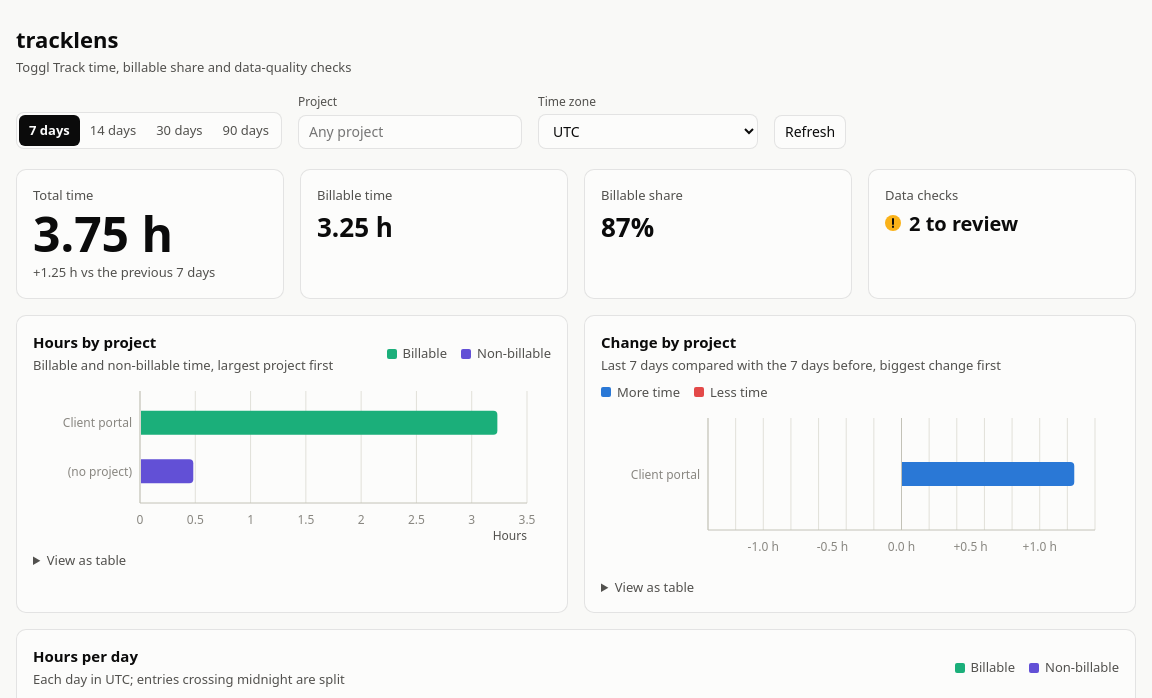
Scenario: App › labels the data on screen, not the filters that failed to load
Check: the text "3.75 h" is shown, box 33,201 -> 173,266
Click the radio button named "Last 30 days" at (179, 130), box 156,121 -> 203,139
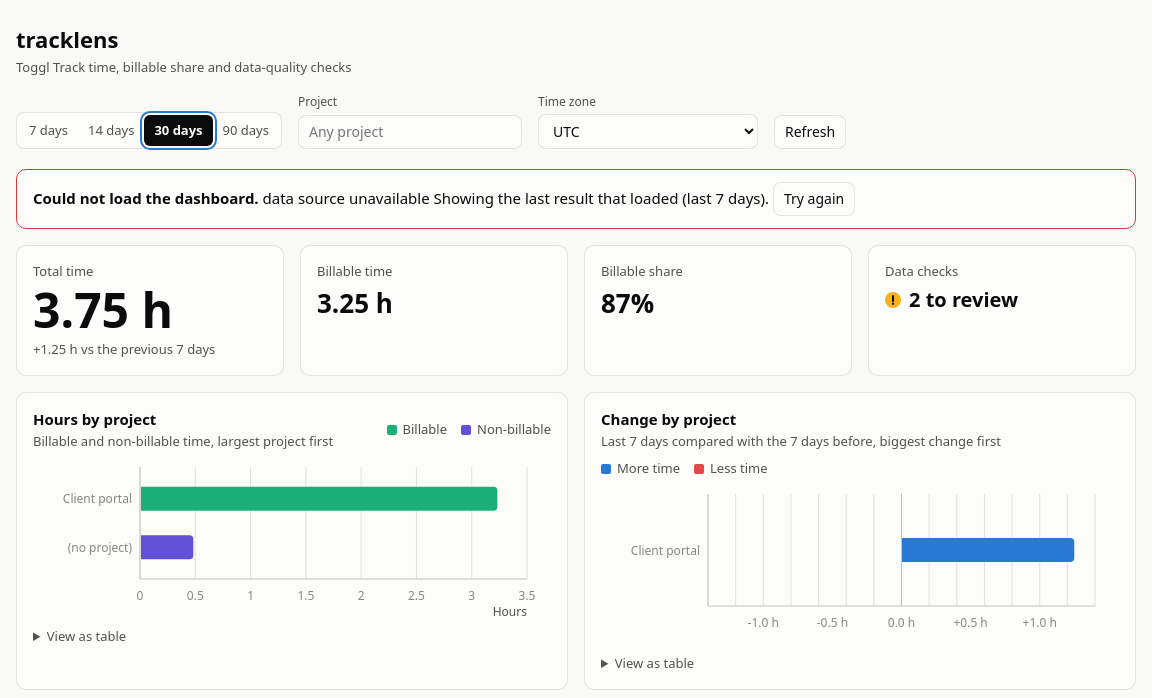
Check: the text "+1.25 h vs the previous 7 days" is shown, box 33,340 -> 215,358
Check: the message shows "Showing the last result that loaded (last 7 days)", box 430,188 -> 769,208
